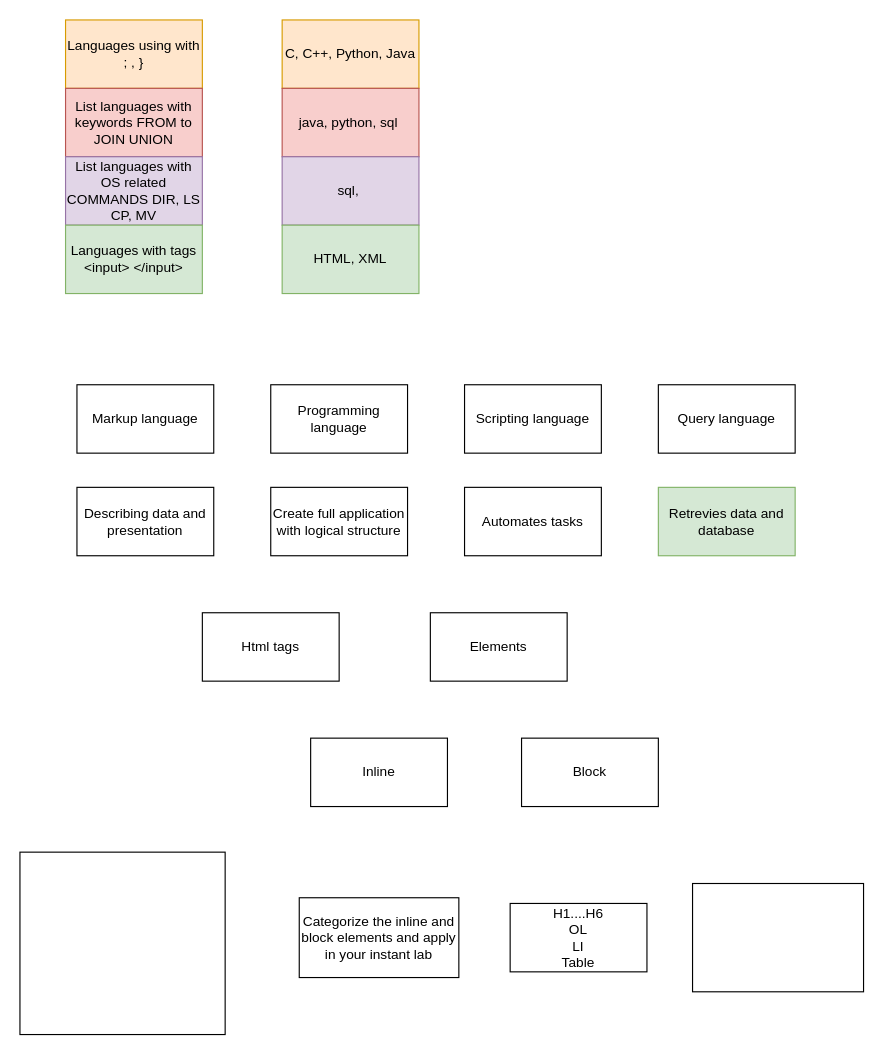
Image size: 884x1055. Some labels were removed from this diagram. Here are the shapes that lost their labels. From the top down, the box of each, then its label:
(19, 851, 225, 1035): H1...H6 OL LI TABLE A B I SUP SUB CODE
(691, 882, 864, 992): A B I SUP SUB CODE
